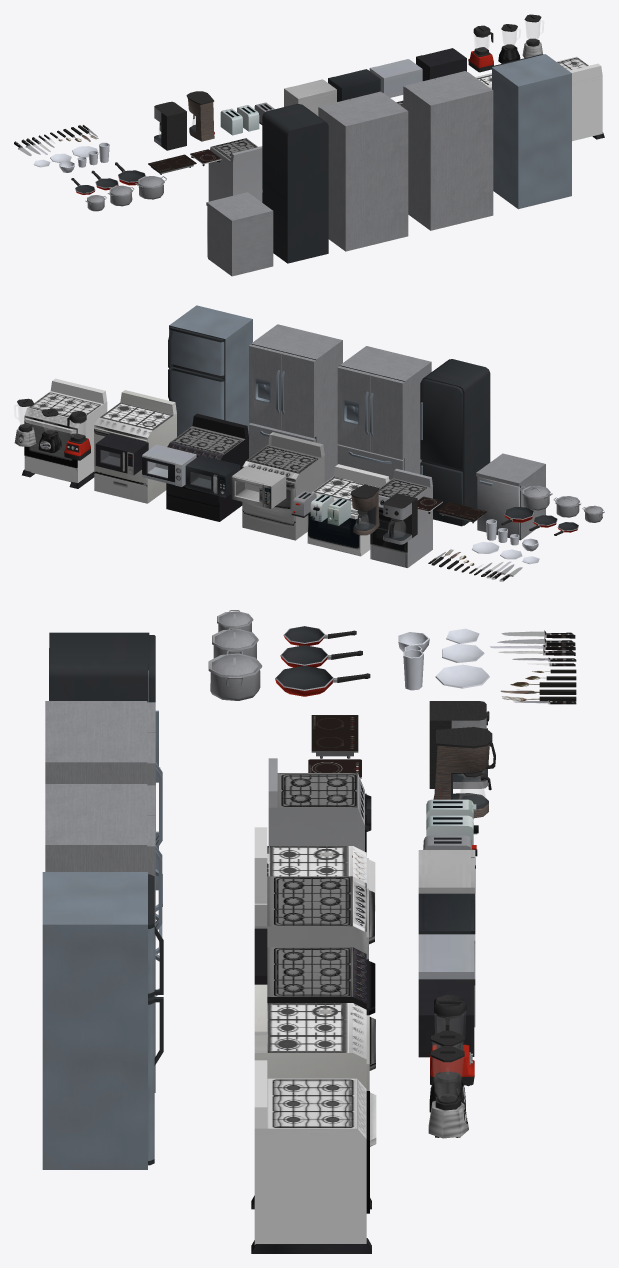
The model's file is electronics_kitchen.glb.
3 renders of one model, top to bottom at view 1: azimuth 30°, elevation 25°; view 2: azimuth 150°, elevation 25°; view 3: azimuth 270°, elevation 25°, orthographic. The views are drawn at different scales.
Parts seen in each view (by area): view 1: Refrigerator_01, Refrigerator_02, Refrigerator, Refrigerator_03, Refrigerator_04, Stove_05, Stove, Coffee_maker_01, Microwave_01, Microwave_03, Microwave, Microwave_02 (+5 smaller); view 2: Stove_01, Refrigerator_01, Refrigerator_03, Stove_03, Stove, Stove_02, Refrigerator, Refrigerator_door_06, Refrigerator_02, Stove_05, Refrigerator_door_03, Refrigerator_door_05 (+34 smaller); view 3: Refrigerator, Stove, Refrigerator_01, Stove_01, Refrigerator_02, Stove_03, Stove_05, Refrigerator_03, Stove_02, Stove_04, Coffee_maker, Microwave (+19 smaller).
Boxes of the visible parts, x1,y1,x2,y2 form: Refrigerator_01: (405,72,493,230); Refrigerator_02: (320,92,408,251); Refrigerator: (492,54,571,209); Refrigerator_03: (262,104,328,263); Refrigerator_04: (206,192,273,276); Stove_05: (208,138,262,202); Stove: (556,56,604,141); Coffee_maker_01: (154,101,186,150); Microwave_01: (369,59,422,97); Microwave_03: (284,80,336,115); Microwave: (416,48,466,80); Microwave_02: (328,69,380,101); Stove_01: (94,390,176,503); Refrigerator_01: (251,324,342,482); Refrigerator_03: (421,359,490,525); Stove_03: (242,432,324,540); Stove: (22,378,107,488); Stove_02: (166,413,248,521); Refrigerator: (169,305,252,435); Refrigerator_door_06: (420,379,463,469); Refrigerator_02: (339,346,431,474); Stove_05: (370,468,432,567); Refrigerator_door_03: (281,352,316,438); Refrigerator_door_05: (370,374,404,459); Refrigerator: (42,872,147,1169); Stove: (251,1060,371,1253); Refrigerator_01: (45,784,147,871); Stove_01: (254,984,366,1088); Refrigerator_02: (45,701,147,783); Stove_03: (254,858,366,953); Stove_05: (268,758,364,851); Refrigerator_03: (49,632,149,702); Stove_02: (254,928,366,1009); Stove_04: (254,827,366,882); Coffee_maker: (433,727,492,818); Microwave: (418,979,475,1057).
Bounding box in the file's own units: 9.32 × 2.27 × 4.12.
Materials: 13 (10 with a texture image).
